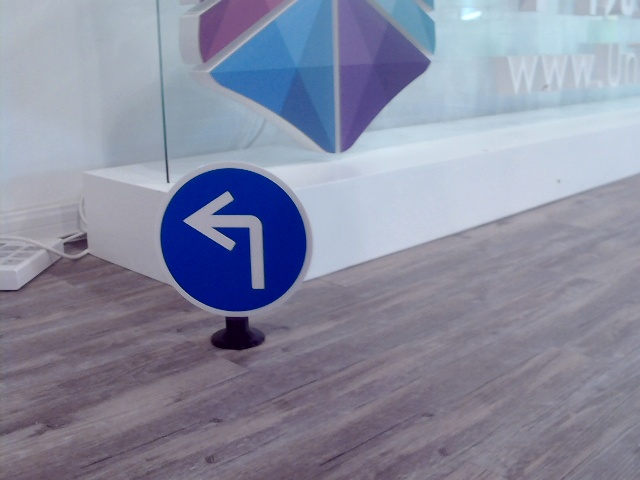turn_left: (183, 188, 274, 292)
